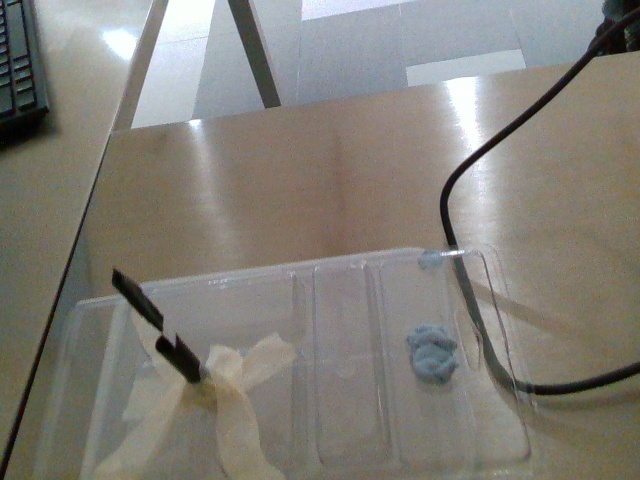test_strip: (108, 267, 174, 344)
